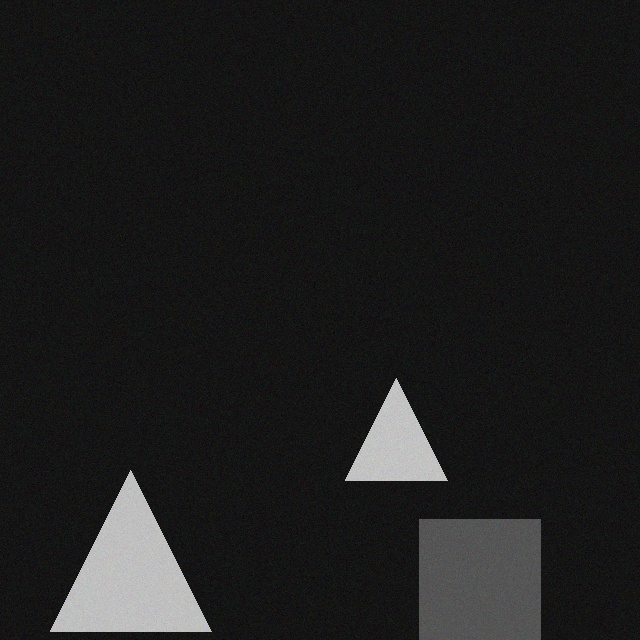square: (429, 515, 550, 636)
triangle: (60, 466, 221, 627), (355, 374, 457, 476)
